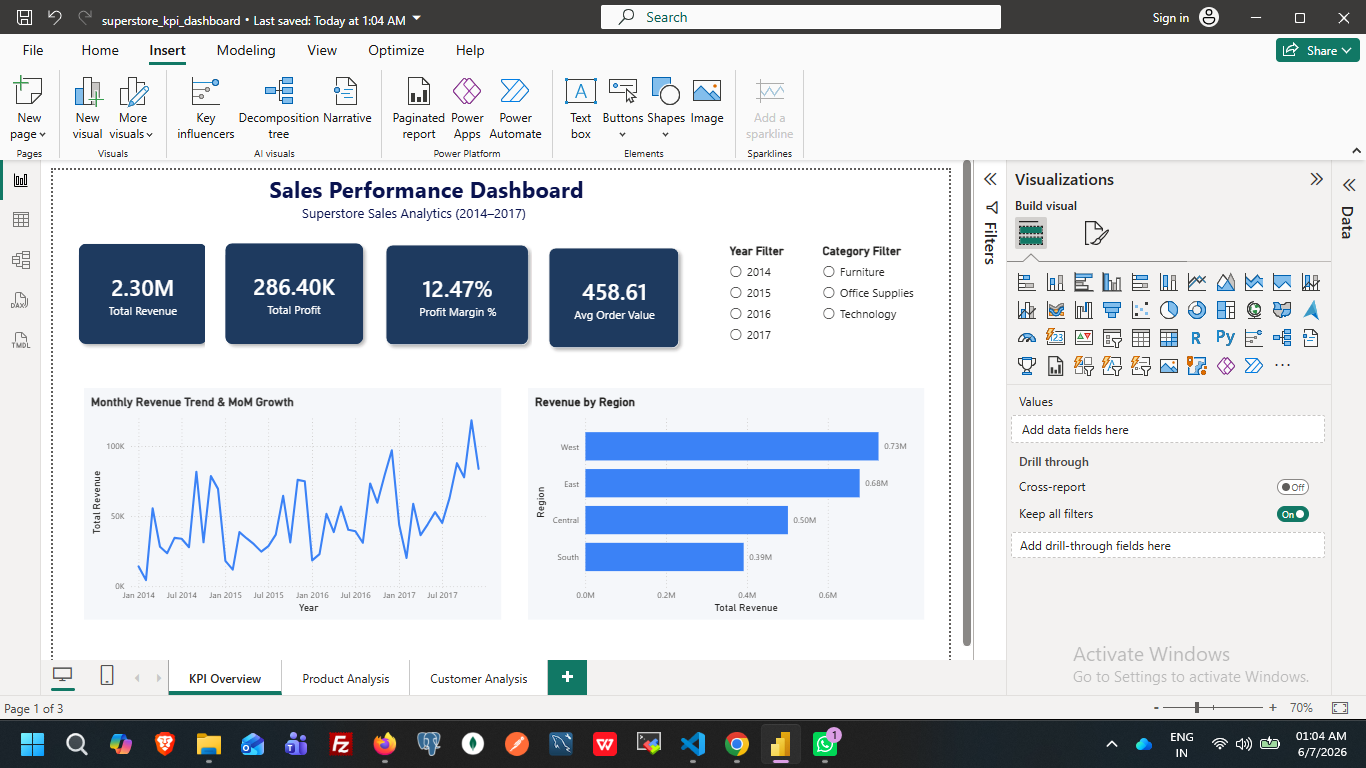

The dashboard page shown, as its layout file describes it:
{"tool":"powerbi","page":{"name":"KPI Overview","canvas":[1280,720],"ordinal":0},"visuals":[{"type":"cardVisual","fields":{"Data":["superstore.Total Revenue"]},"box":[12.9,81.4,231.4,191.4],"z":0},{"type":"cardVisual","fields":{"Data":["superstore.Total Profit"]},"box":[217.1,75.7,255.7,202.9],"z":1000},{"type":"cardVisual","fields":{"Data":["superstore.Profit Margin %"]},"box":[451.4,82.9,252.9,191.4],"z":2000},{"type":"cardVisual","fields":{"Data":["superstore.Avg Order Value"]},"box":[684.3,87.1,234.3,191.4],"z":3000},{"type":"lineChart","title":"Monthly Revenue Trend & MoM Growth","fields":{"Y":["superstore.Total Revenue"],"Category":["superstore.Order Date.Variation.Date Hierarchy.Year","superstore.Order Date.Variation.Date Hierarchy.Month"]},"box":[44.3,311.4,595.7,331.4],"z":4000},{"type":"clusteredBarChart","title":"Revenue by Region","fields":{"Category":["superstore.Region"],"Y":["superstore.Total Revenue"]},"box":[678.6,311.4,565.7,331.4],"z":5000},{"type":"listSlicer","title":"Year Filter","fields":{"Values":["superstore.Order Date.Variation.Date Hierarchy.Year"]},"box":[961.4,105.7,98.6,152.9],"z":6000},{"type":"listSlicer","title":"Category Filter","fields":{"Values":["superstore.Category"]},"box":[1094.3,105.7,185.7,132.9],"z":7000},{"type":"textbox","box":[304.3,0,512.9,81.4],"z":7004}]}

Visuals, with their boxes on the page's 1280x720 design canvas (x1, y1, x2, y2). These are canvas units, not pixel positions in the 1366x768 screenshot, which may show the page scaled, cropped or inside an application window:
cardVisual - superstore.Total Revenue: 13,81,244,273
cardVisual - superstore.Total Profit: 217,76,473,279
cardVisual - superstore.Profit Margin %: 451,83,704,274
cardVisual - superstore.Avg Order Value: 684,87,919,278
"Monthly Revenue Trend & MoM Growth" lineChart: 44,311,640,643
"Revenue by Region" clusteredBarChart: 679,311,1244,643
"Year Filter" listSlicer: 961,106,1060,259
"Category Filter" listSlicer: 1094,106,1280,239
textbox: 304,0,817,81
